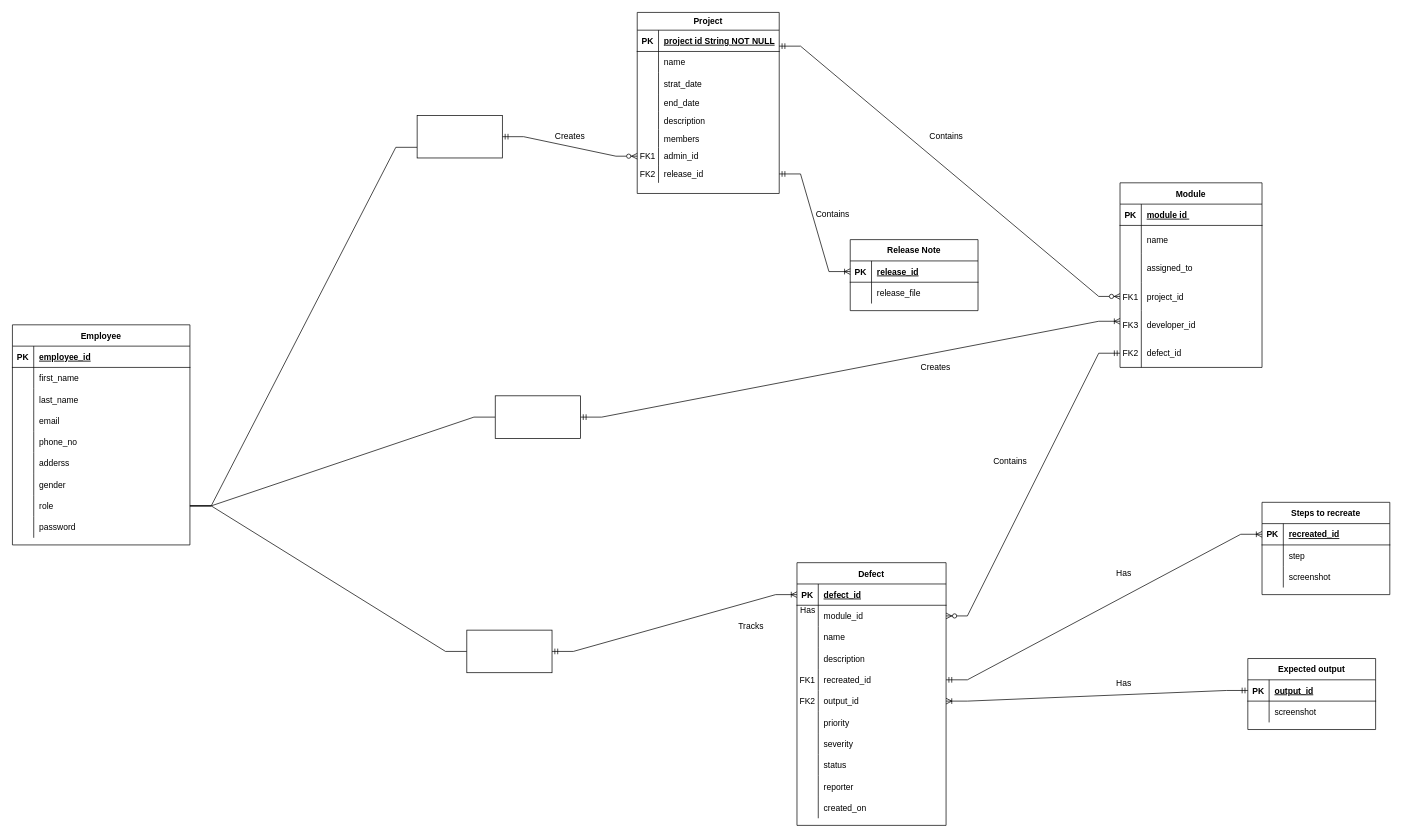
Some shapes in this 1402 by 838 pixel diagram are drawn without their labels. The centre of each missing label's shape, as x and y in pixels:
"Admin" goes at (x=459, y=136).
"Developer" goes at (x=537, y=416).
"Quality Assurance" goes at (x=509, y=651).
